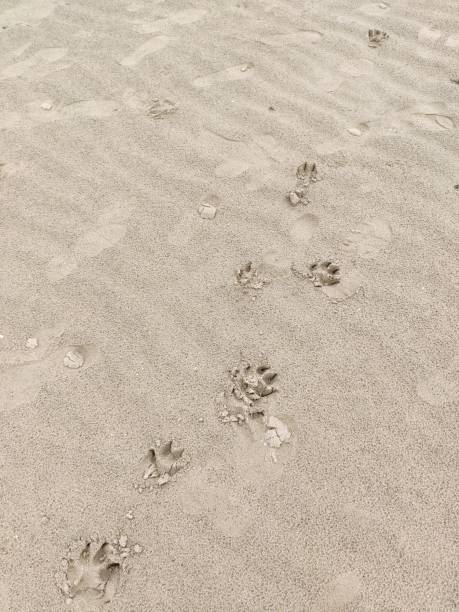animal_footprint: (46, 205, 131, 281), (59, 542, 122, 611), (218, 356, 276, 422), (291, 261, 362, 301), (0, 47, 69, 79), (416, 355, 458, 406), (143, 440, 186, 485), (344, 218, 391, 258), (120, 35, 174, 67), (135, 8, 206, 32), (0, 0, 60, 28), (400, 102, 455, 130), (193, 63, 251, 88), (287, 161, 317, 205), (263, 415, 290, 462), (261, 30, 323, 46), (235, 261, 268, 289), (289, 213, 318, 244), (308, 261, 340, 286), (146, 98, 177, 118), (358, 2, 389, 16), (368, 29, 388, 47)
